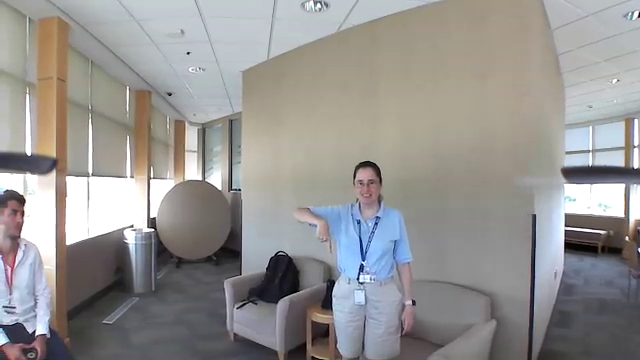down: (310, 216, 335, 254)
